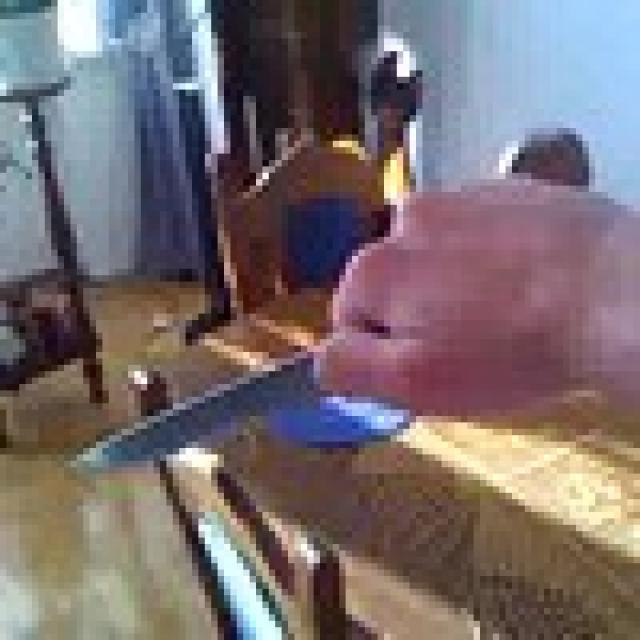Knife: (70, 333, 390, 480)
